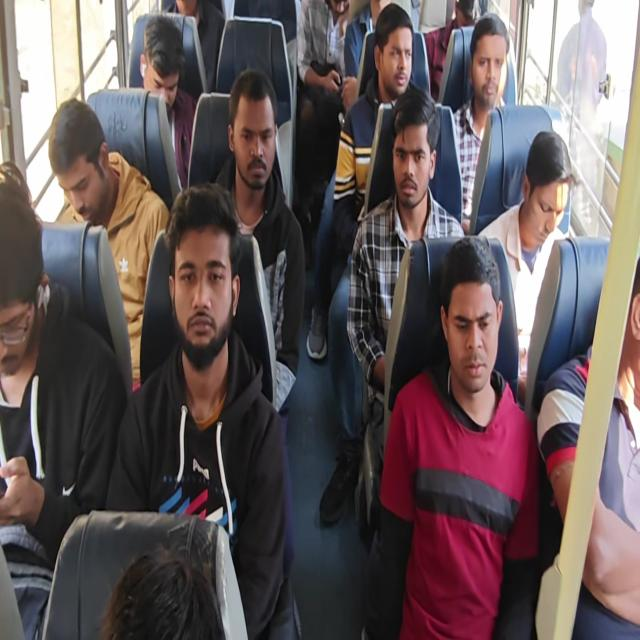person: (1, 1, 638, 638), (103, 181, 300, 638), (362, 234, 540, 638), (0, 176, 128, 638), (346, 87, 466, 531), (306, 2, 422, 360), (536, 254, 640, 638), (48, 97, 171, 391), (212, 68, 306, 424), (478, 129, 577, 393), (451, 13, 509, 231), (556, 0, 608, 236), (100, 543, 226, 639), (296, 0, 350, 221), (141, 15, 197, 189), (163, 0, 225, 92), (424, 0, 478, 102), (295, 0, 350, 96), (343, 0, 383, 80)
